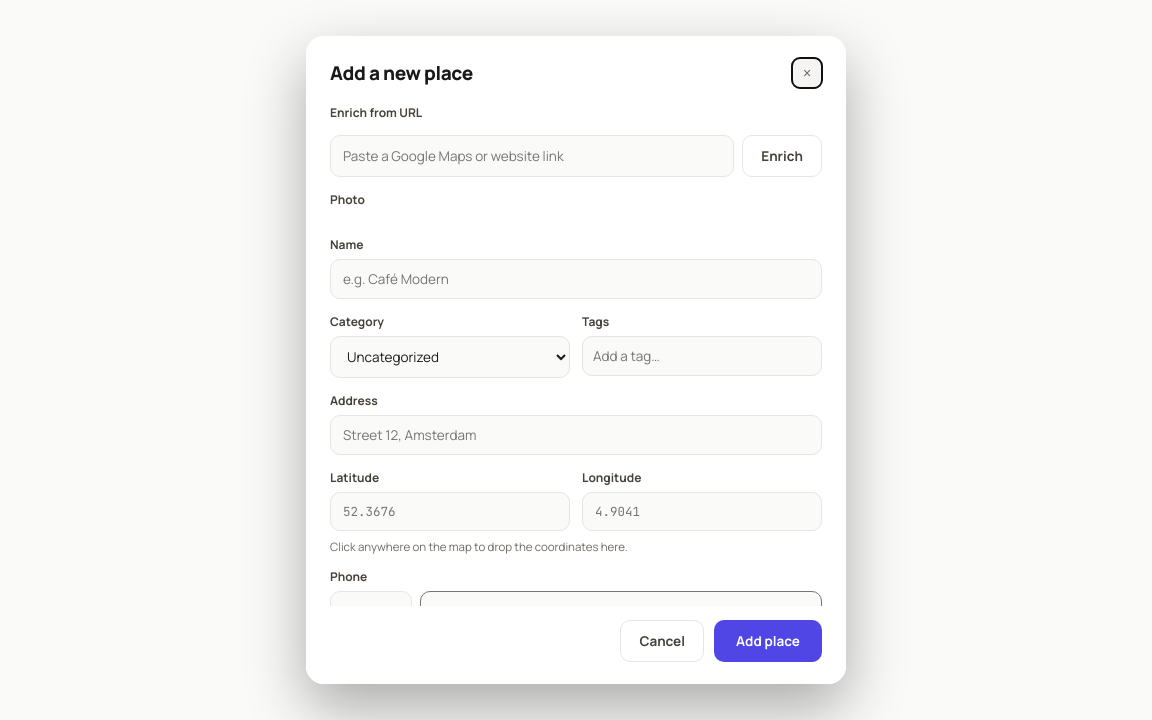
Test: PoiFormModal enrich › pressing Enter in the enrich field runs enrich, not form submit
Type "https://e.example" into the field labelled "Enrich from URL" at (532, 156), box [330,135,734,177]
Then press Enter
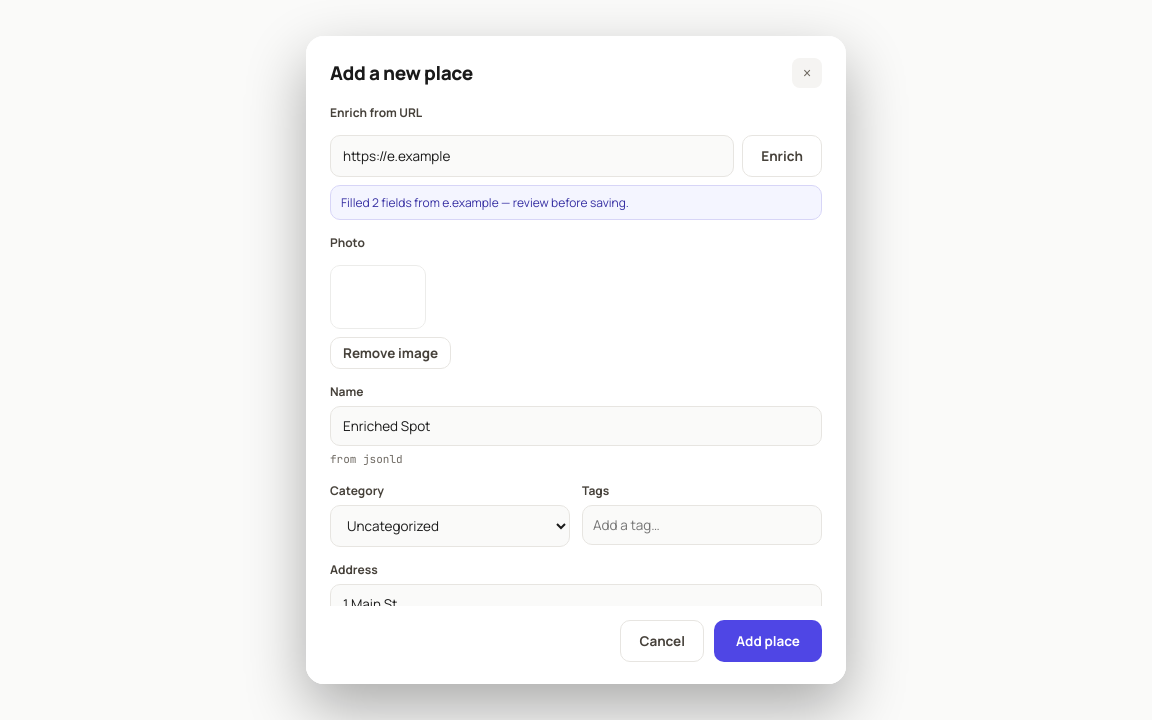
Expected: the field showing "Enriched Spot" is shown, [330,406,822,446]
